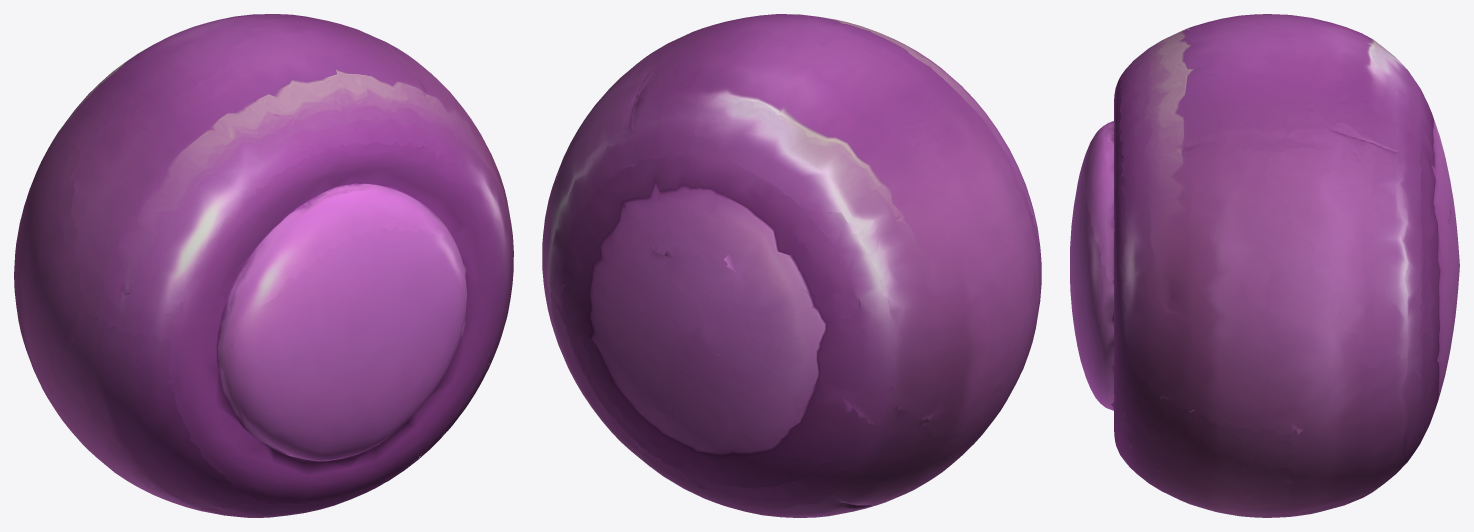
The model's file is iris.glb.
The picture shows the model from 3 angles, left to right: view 1: azimuth 30°, elevation 25°; view 2: azimuth 150°, elevation 25°; view 3: azimuth 270°, elevation 25°; orthographic projection.
Size of the model in its own units: 0.27 by 0.2698 by 0.2096.
Materials: 1 (1 with a texture image).
